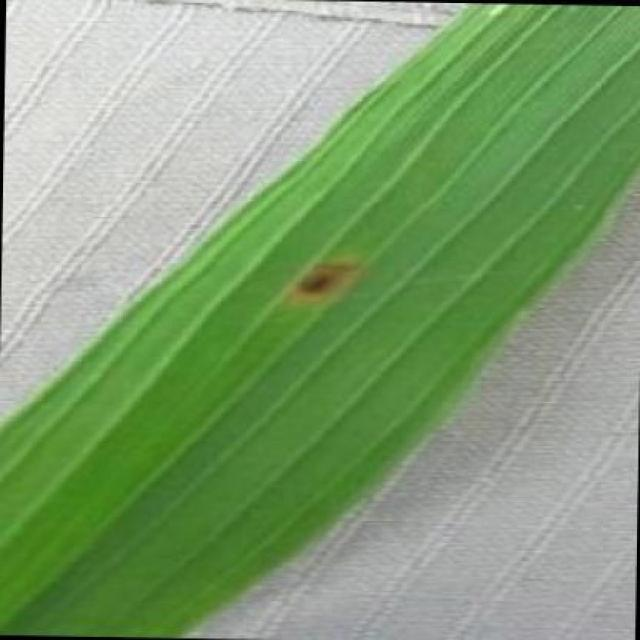Leaf_Blast: (280, 248, 372, 306), (160, 538, 208, 582)
